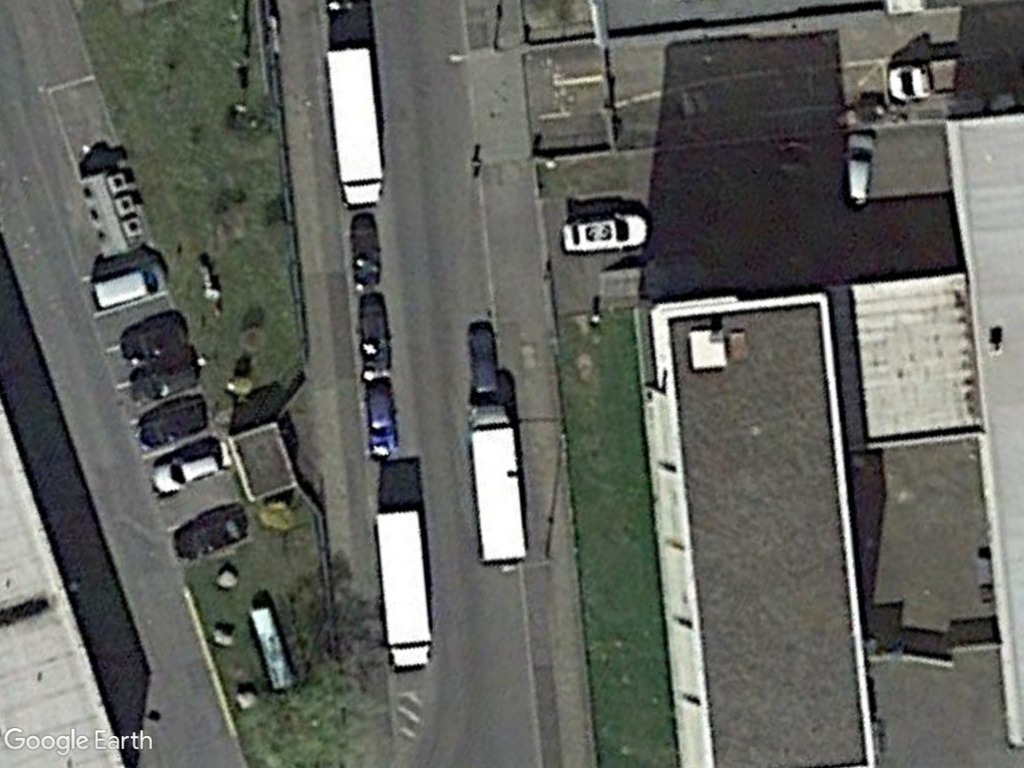car: (555, 209, 650, 257), (147, 443, 225, 498), (833, 131, 877, 214)
truck: (321, 45, 388, 210), (373, 506, 437, 674), (465, 402, 530, 567)
van: (87, 257, 168, 312)
